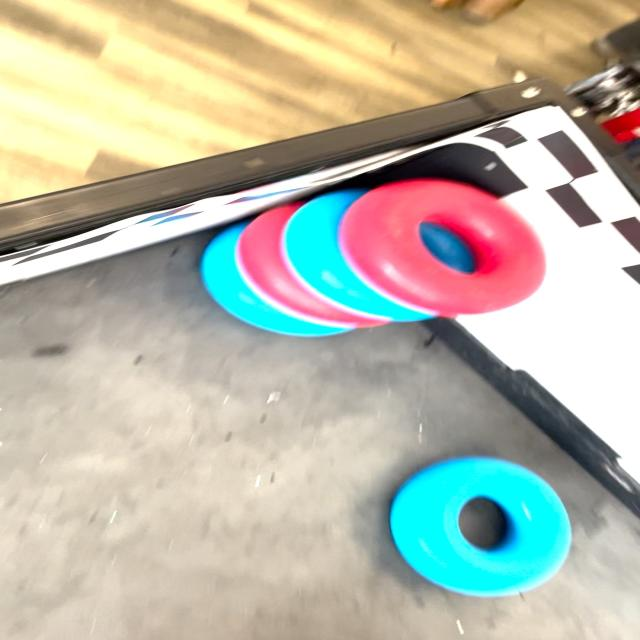Blue-Ring: (391, 456, 571, 596), (282, 189, 431, 321), (200, 221, 349, 336)
Red-Ring: (340, 179, 544, 318), (236, 201, 389, 328)
